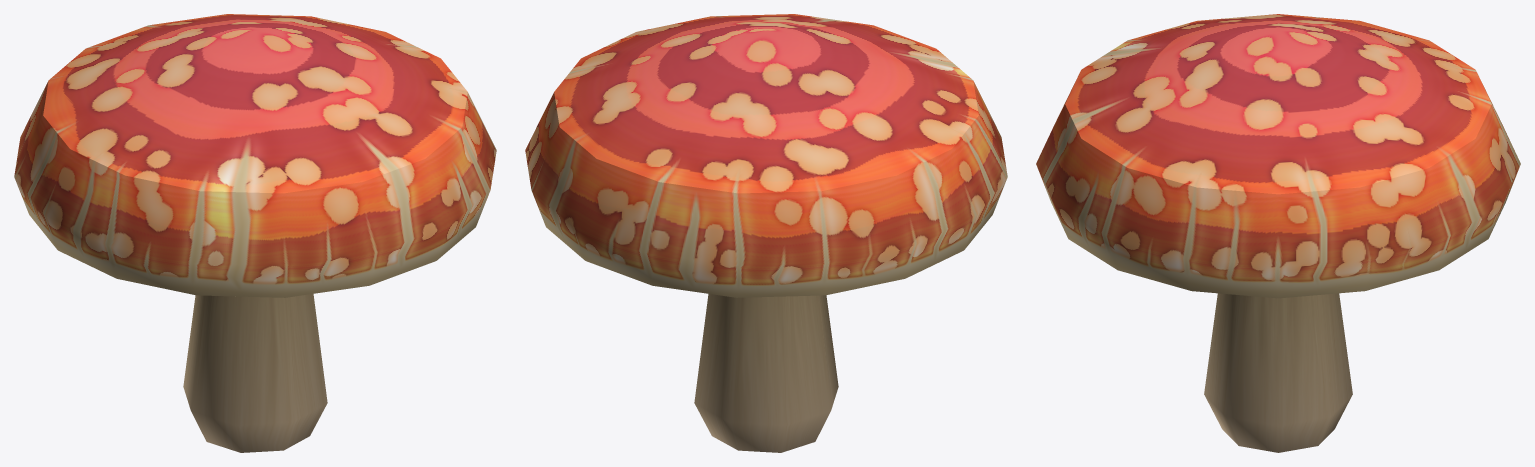
Rendered from VEG0110003.fbx.
The picture shows the model from 3 angles, left to right: view 1: azimuth 30°, elevation 25°; view 2: azimuth 150°, elevation 25°; view 3: azimuth 270°, elevation 25°; orthographic projection.
Visible parts, largest first — view 1: smVEG0110003; view 2: smVEG0110003; view 3: smVEG0110003.
Part boxes in pixels (<box>): smVEG0110003: <box>14,14,496,452</box>; smVEG0110003: <box>525,14,1007,452</box>; smVEG0110003: <box>1036,14,1520,452</box>.
Bounding box in the file's own units: 39.91 × 36.06 × 39.91.
1 material, 1 textured.
